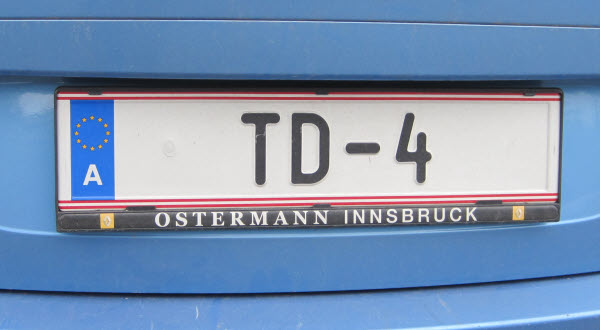license_plate: (56, 90, 561, 204)
